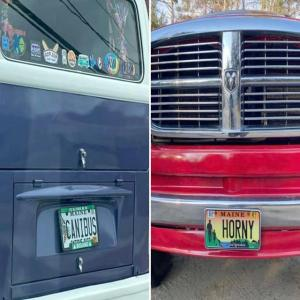Plate: (205, 209, 261, 250), (58, 205, 98, 251)
